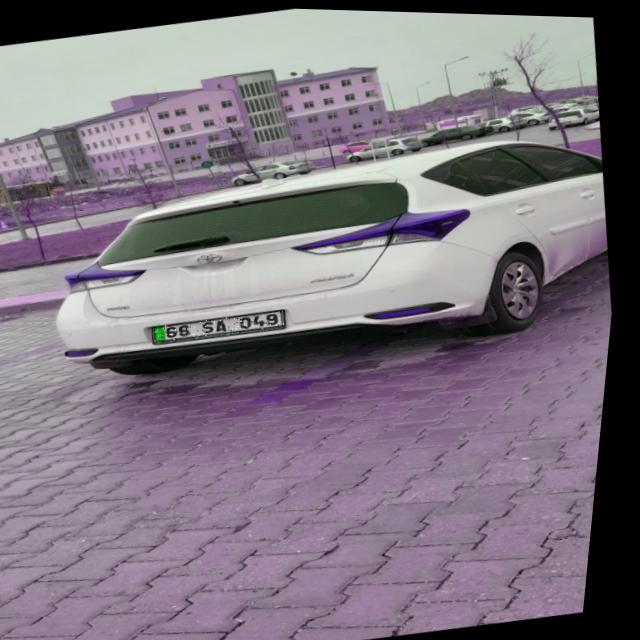license_plate: (157, 305, 292, 344)
